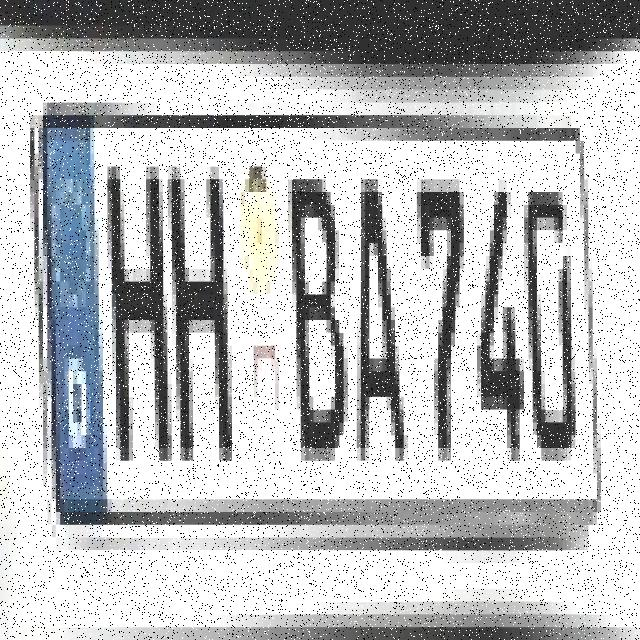licenseplate: (28, 57, 615, 564)
